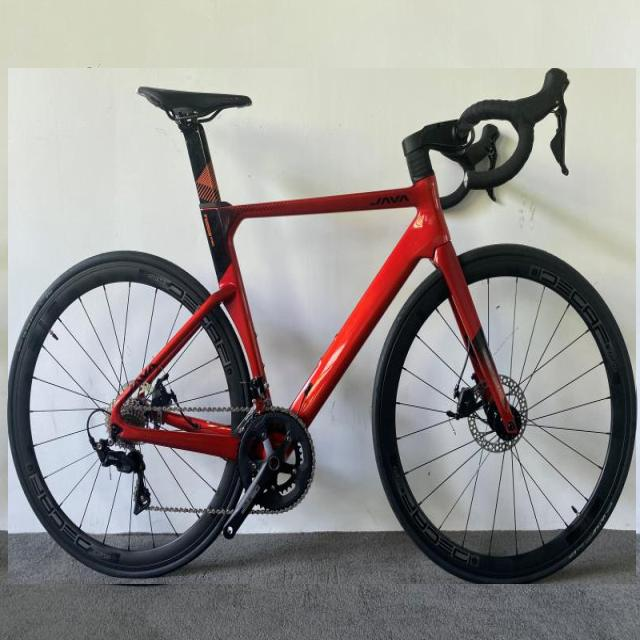bicycle: (8, 69, 636, 584)
